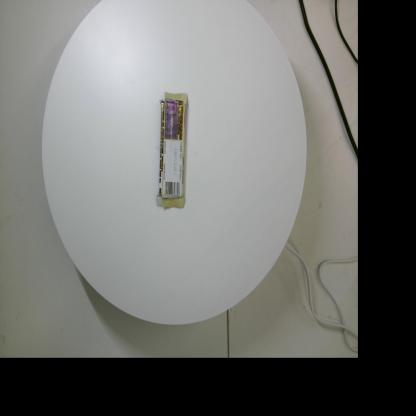Chocolate: (156, 92, 187, 209)
